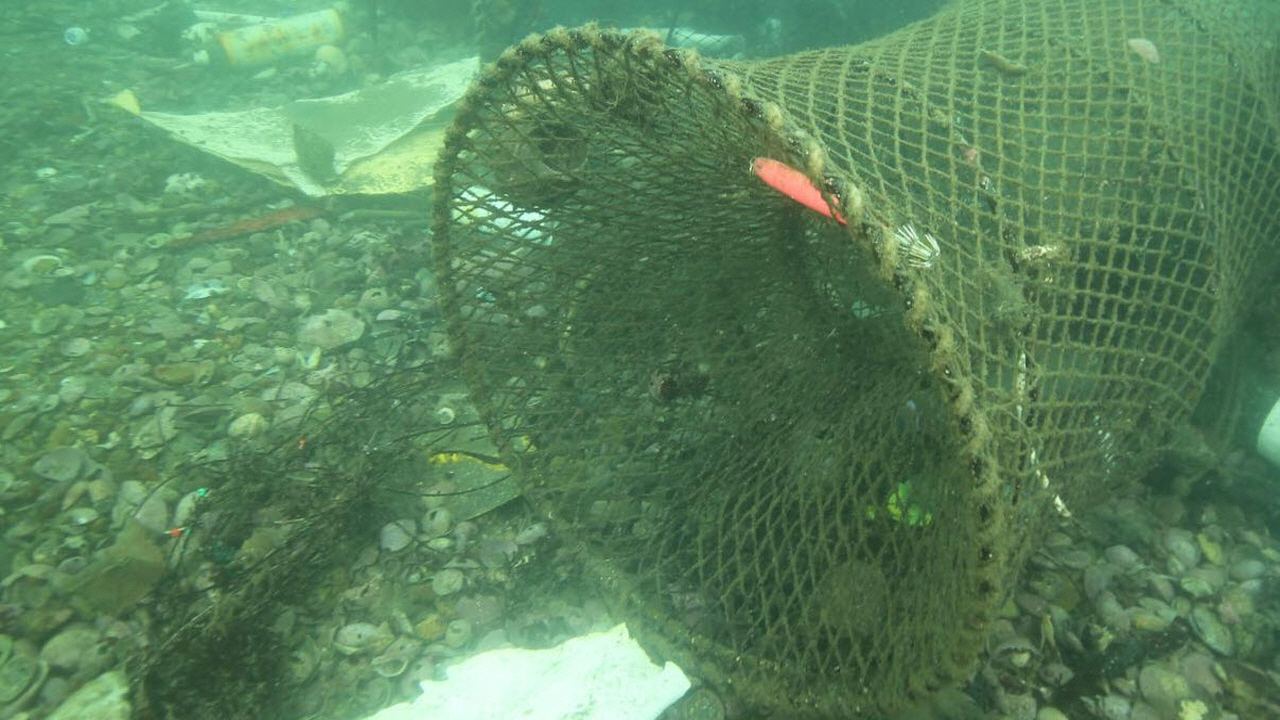spring fish trap: (426, 0, 1280, 714)
